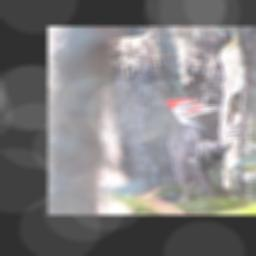Woodpecker: (161, 98, 252, 209)
